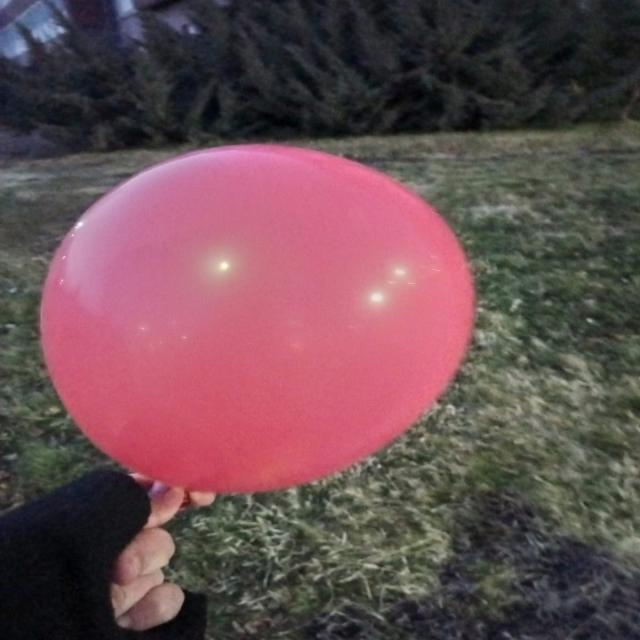balloon: (41, 145, 474, 493)
